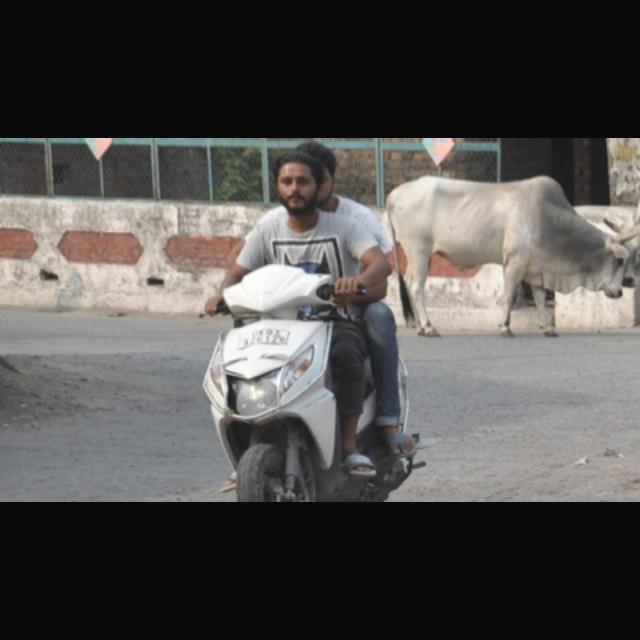Without Helmet: (264, 146, 332, 216)
